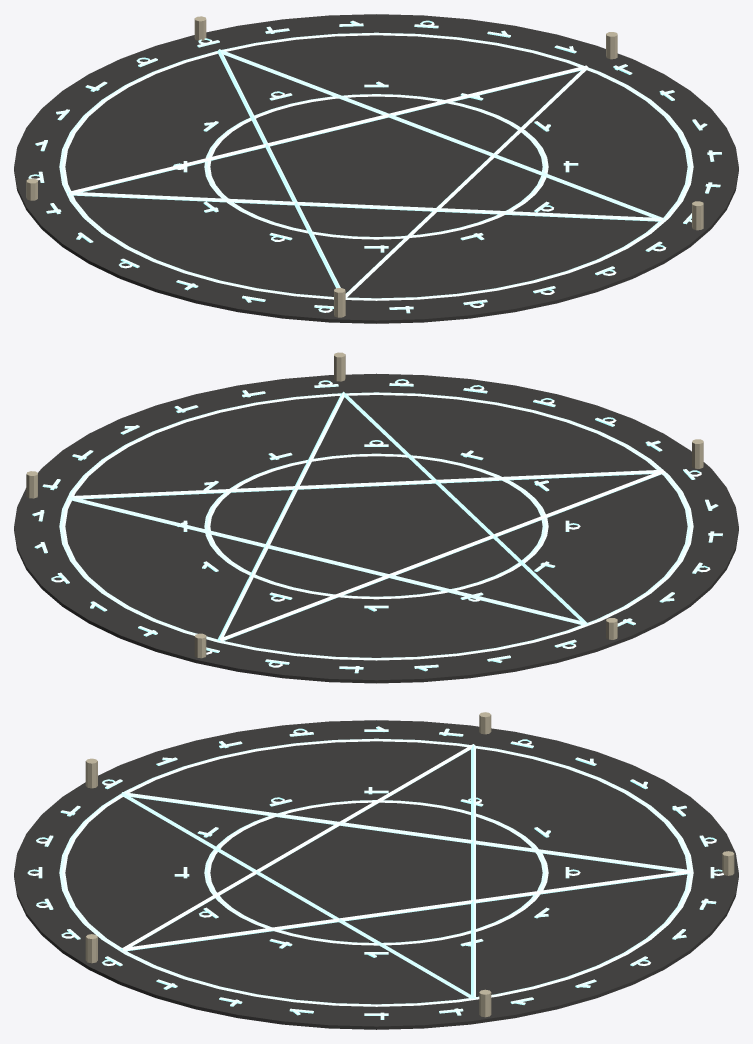
Rendered from ritual_circle.glb.
The picture shows the model from 3 angles, top to bottom: view 1: azimuth 30°, elevation 25°; view 2: azimuth 150°, elevation 25°; view 3: azimuth 270°, elevation 25°; orthographic projection.
Visible parts, largest first — view 1: ritual_circle; view 2: ritual_circle; view 3: ritual_circle.
Boxes of the visible parts, left/top/right/bottom form: ritual_circle: left=14, top=14, right=738, bottom=323; ritual_circle: left=14, top=352, right=738, bottom=683; ritual_circle: left=14, top=712, right=738, bottom=1029.
Size of the model in its own units: 6 by 0.2571 by 6.
